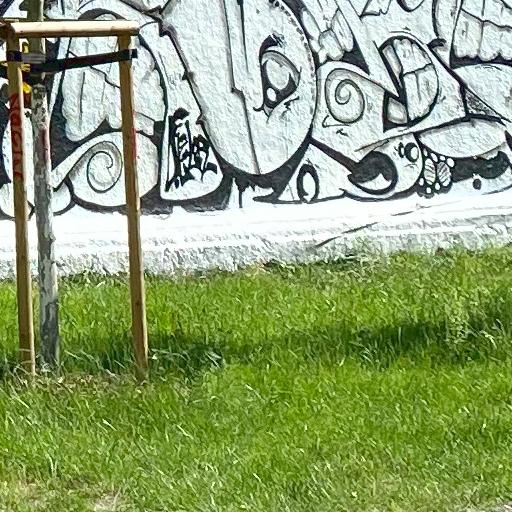tree: (26, 1, 64, 374)
